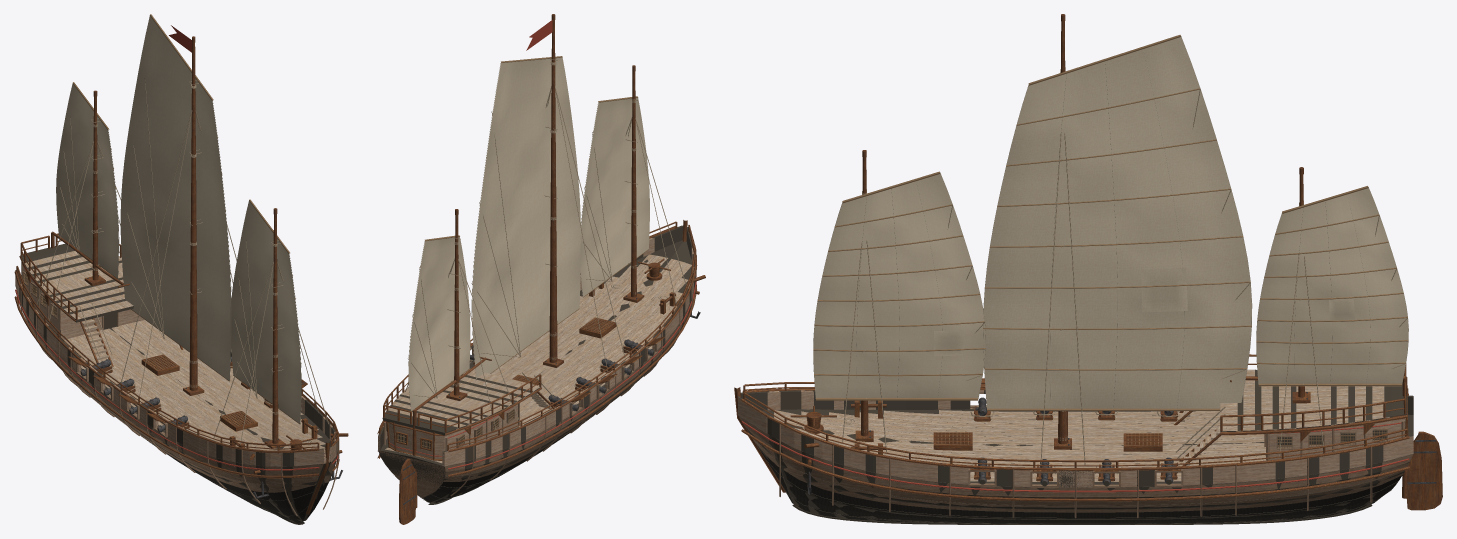
Rendered from fuchuan-lod2.glb.
The picture shows the model from 3 angles, left to right: view 1: azimuth 30°, elevation 25°; view 2: azimuth 150°, elevation 25°; view 3: azimuth 270°, elevation 25°; orthographic projection. The views are drawn at different scales.
Visible parts, largest first — view 1: sail_1, deck, hull, sail_0, sail_2, shadow_hull, deck_fittings, bulwark_rails, mast_timber_1, shadow_deck, sterncastle, mast_timber_0 (+6 smaller); view 2: sail_1, deck, sail_0, hull, sail_2, shadow_hull, deck_fittings, bulwark_rails, mast_timber_1, shadow_deck, mast_timber_0, stern_transom (+7 smaller); view 3: sail_1, hull, sail_0, sail_2, deck, shadow_hull, deck_fittings, bulwark_rails, shadow_deck, rudder_blade, sterncastle, rigging_1.
Part boxes in pixels (x1,y1,x2,y2): sail_1: (120,14,231,381); deck: (19,251,325,450); hull: (14,270,339,524); sail_0: (230,199,301,424); sail_2: (56,82,119,278); shadow_hull: (15,270,337,522); deck_fittings: (21,262,348,498); bulwark_rails: (16,233,338,453); mast_timber_1: (189,43,197,390); shadow_deck: (21,243,133,322); sterncastle: (23,266,144,339); mast_timber_0: (272,214,278,443); sail_1: (471,56,580,378); deck: (382,254,691,463); sail_0: (580,96,649,297); hull: (377,220,697,504); sail_2: (408,235,470,411); shadow_hull: (378,225,695,502); deck_fittings: (383,258,705,460); bulwark_rails: (379,221,695,450); mast_timber_1: (549,20,557,362); shadow_deck: (383,374,540,435); mast_timber_0: (631,71,636,297); stern_transom: (388,422,444,458); sail_1: (983,35,1252,411); hull: (734,387,1413,524); sail_0: (813,171,985,400); sail_2: (1256,186,1408,386); deck: (774,369,1407,481); shadow_hull: (738,390,1413,523); deck_fittings: (790,385,1407,494); bulwark_rails: (743,354,1408,467); shadow_deck: (1220,369,1407,432); rudder_blade: (1406,431,1442,510); sterncastle: (1266,418,1404,460); rigging_1: (1040,132,1085,465).
Size of the model in its own units: 10.4 by 26.66 by 33.57.
Materials: 13 (8 with a texture image).
